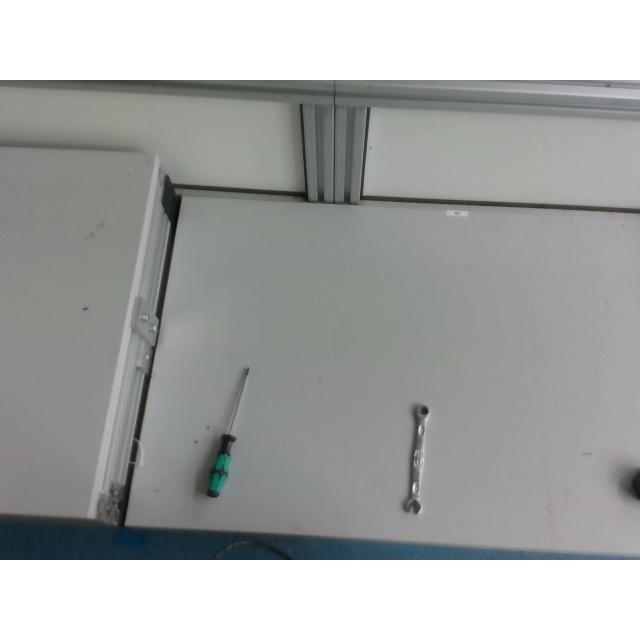Screwdriver: (205, 367, 251, 498)
Wrench: (402, 404, 430, 514)
